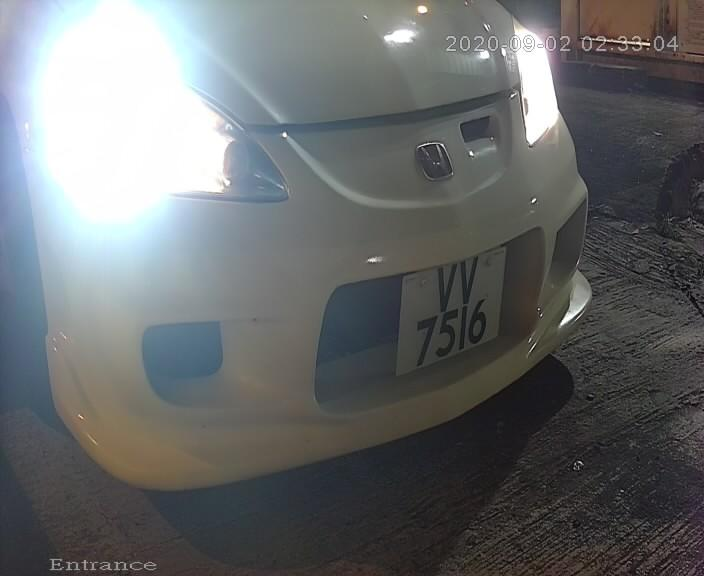License Plate: (406, 229, 507, 379)
